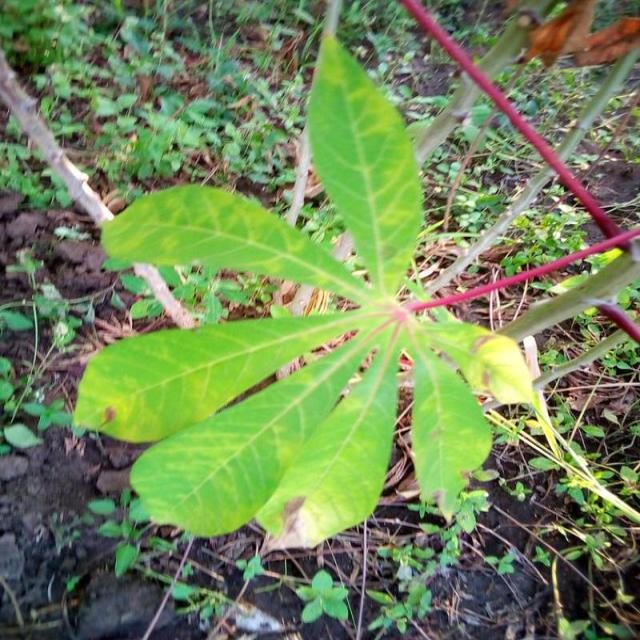cassava leaf: (74, 32, 636, 550), (128, 321, 382, 538), (71, 305, 362, 444), (99, 181, 373, 303), (304, 34, 426, 298)
